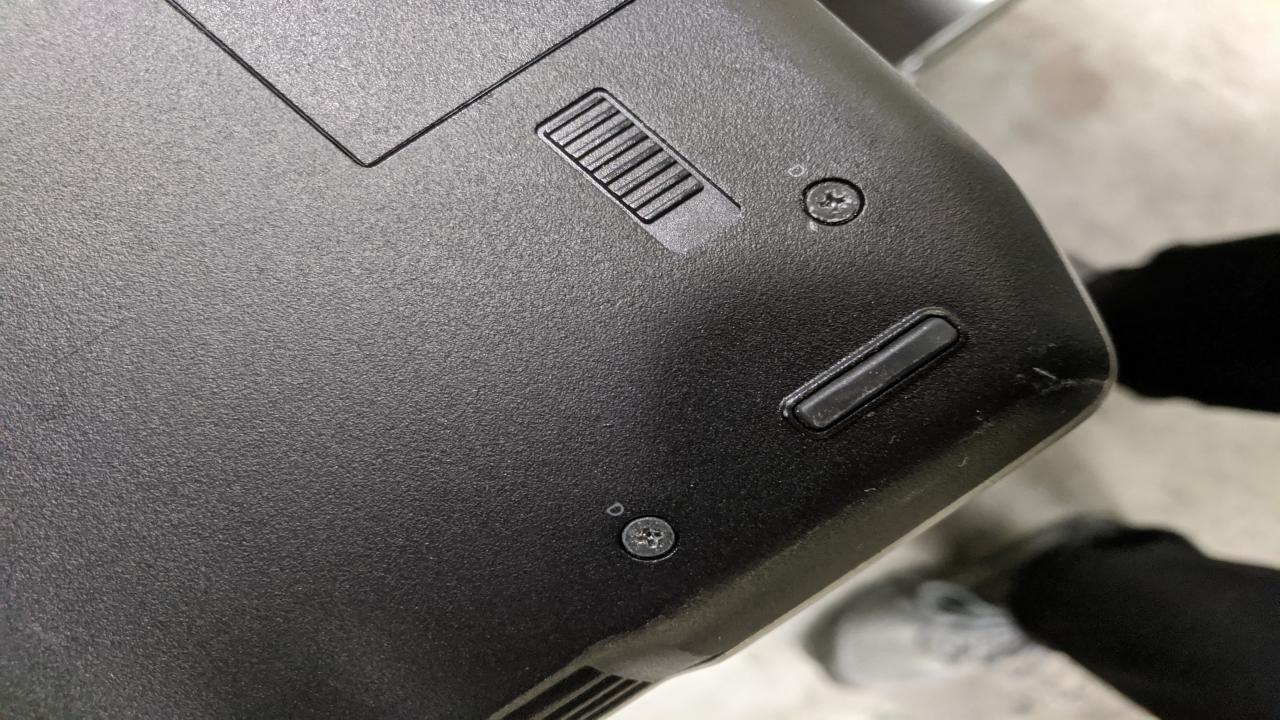CRS: (798, 171, 872, 230), (618, 517, 678, 558)
